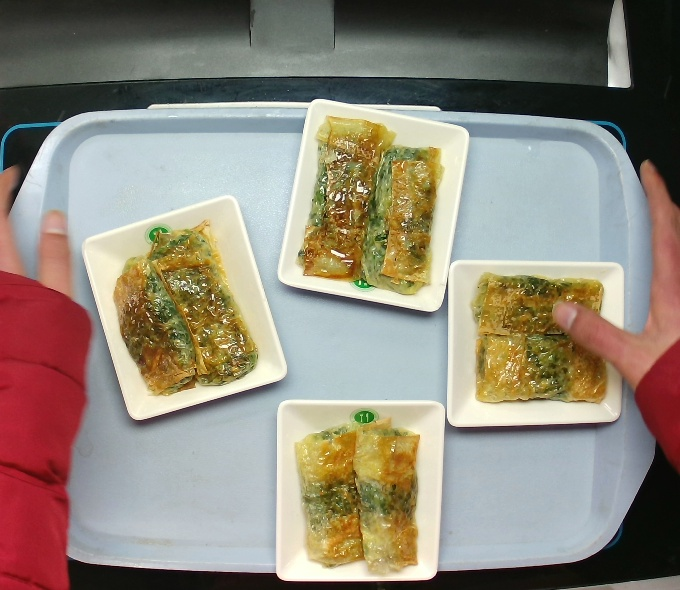wcq-CaiBao: (287, 110, 463, 295), (104, 215, 269, 405), (460, 268, 623, 412), (290, 412, 425, 582)
